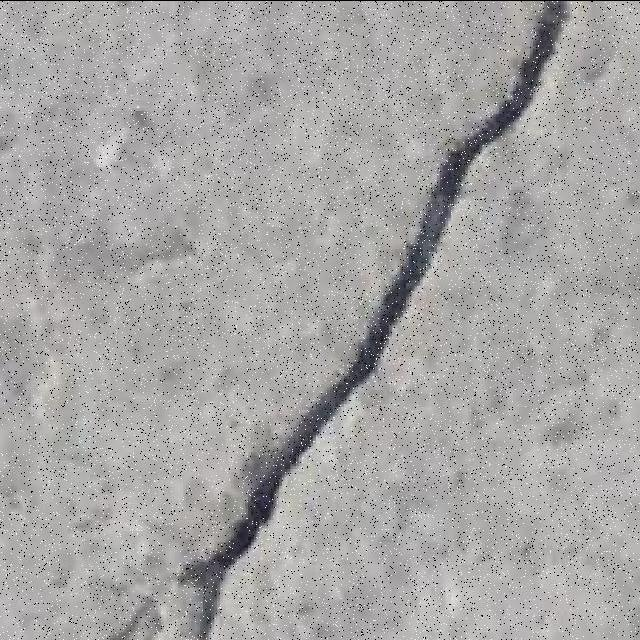crack: (218, 0, 515, 591), (424, 6, 570, 223), (87, 511, 235, 638)
